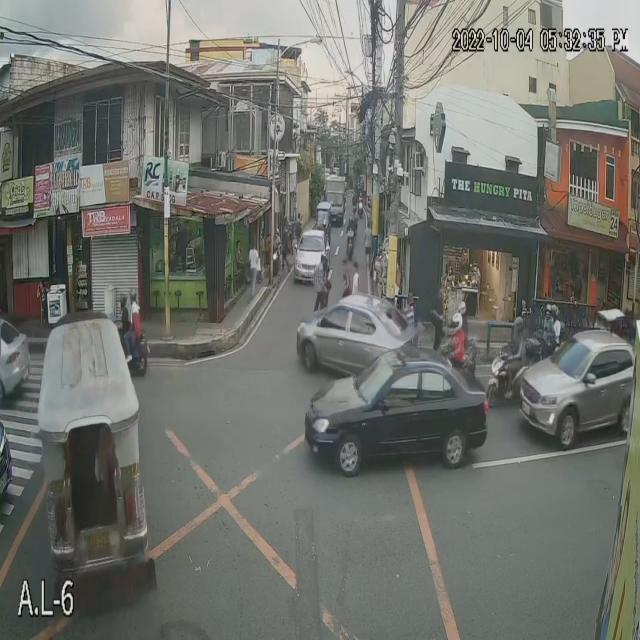Full-Faced: (445, 308, 465, 342), (509, 313, 524, 342), (457, 295, 469, 327), (126, 286, 141, 311), (549, 302, 562, 321), (119, 290, 128, 312), (348, 215, 358, 231)
Half-Faced: (540, 302, 554, 331)
